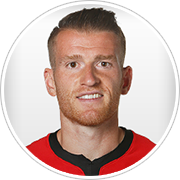face: (42, 41, 135, 122)
